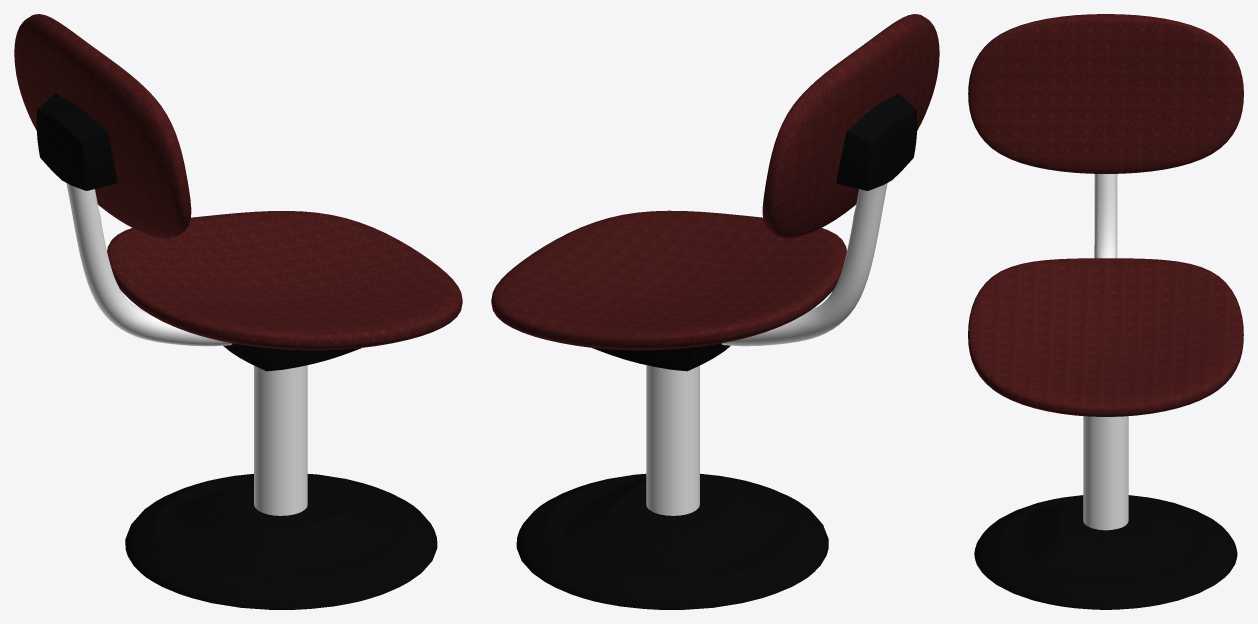
The model's file is ChairGLTF.gltf.
3 renders of one model, left to right at view 1: azimuth 30°, elevation 25°; view 2: azimuth 150°, elevation 25°; view 3: azimuth 270°, elevation 25°, orthographic. The views are drawn at different scales.
Visible parts, largest first — view 1: Cylinder.001; view 2: Cylinder.001; view 3: Cylinder.001.
Boxes of the visible parts, x1,y1,x2,y2 form: Cylinder.001: (14, 14, 462, 609); Cylinder.001: (491, 14, 939, 609); Cylinder.001: (968, 14, 1243, 609).
Size of the model in its own units: 0.6715 by 0.9397 by 0.5108.
3 materials, 2 textured.
